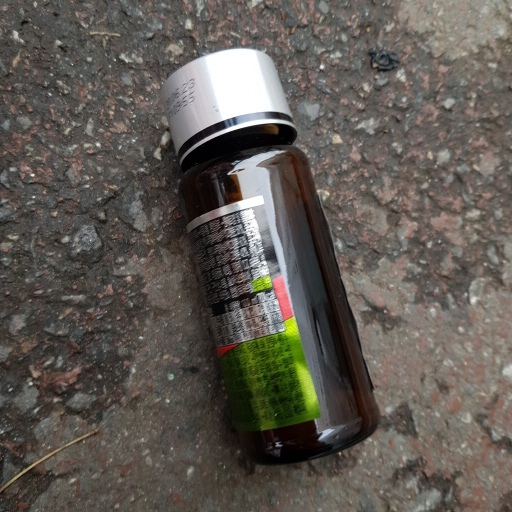Glass_3: (158, 44, 381, 468)
